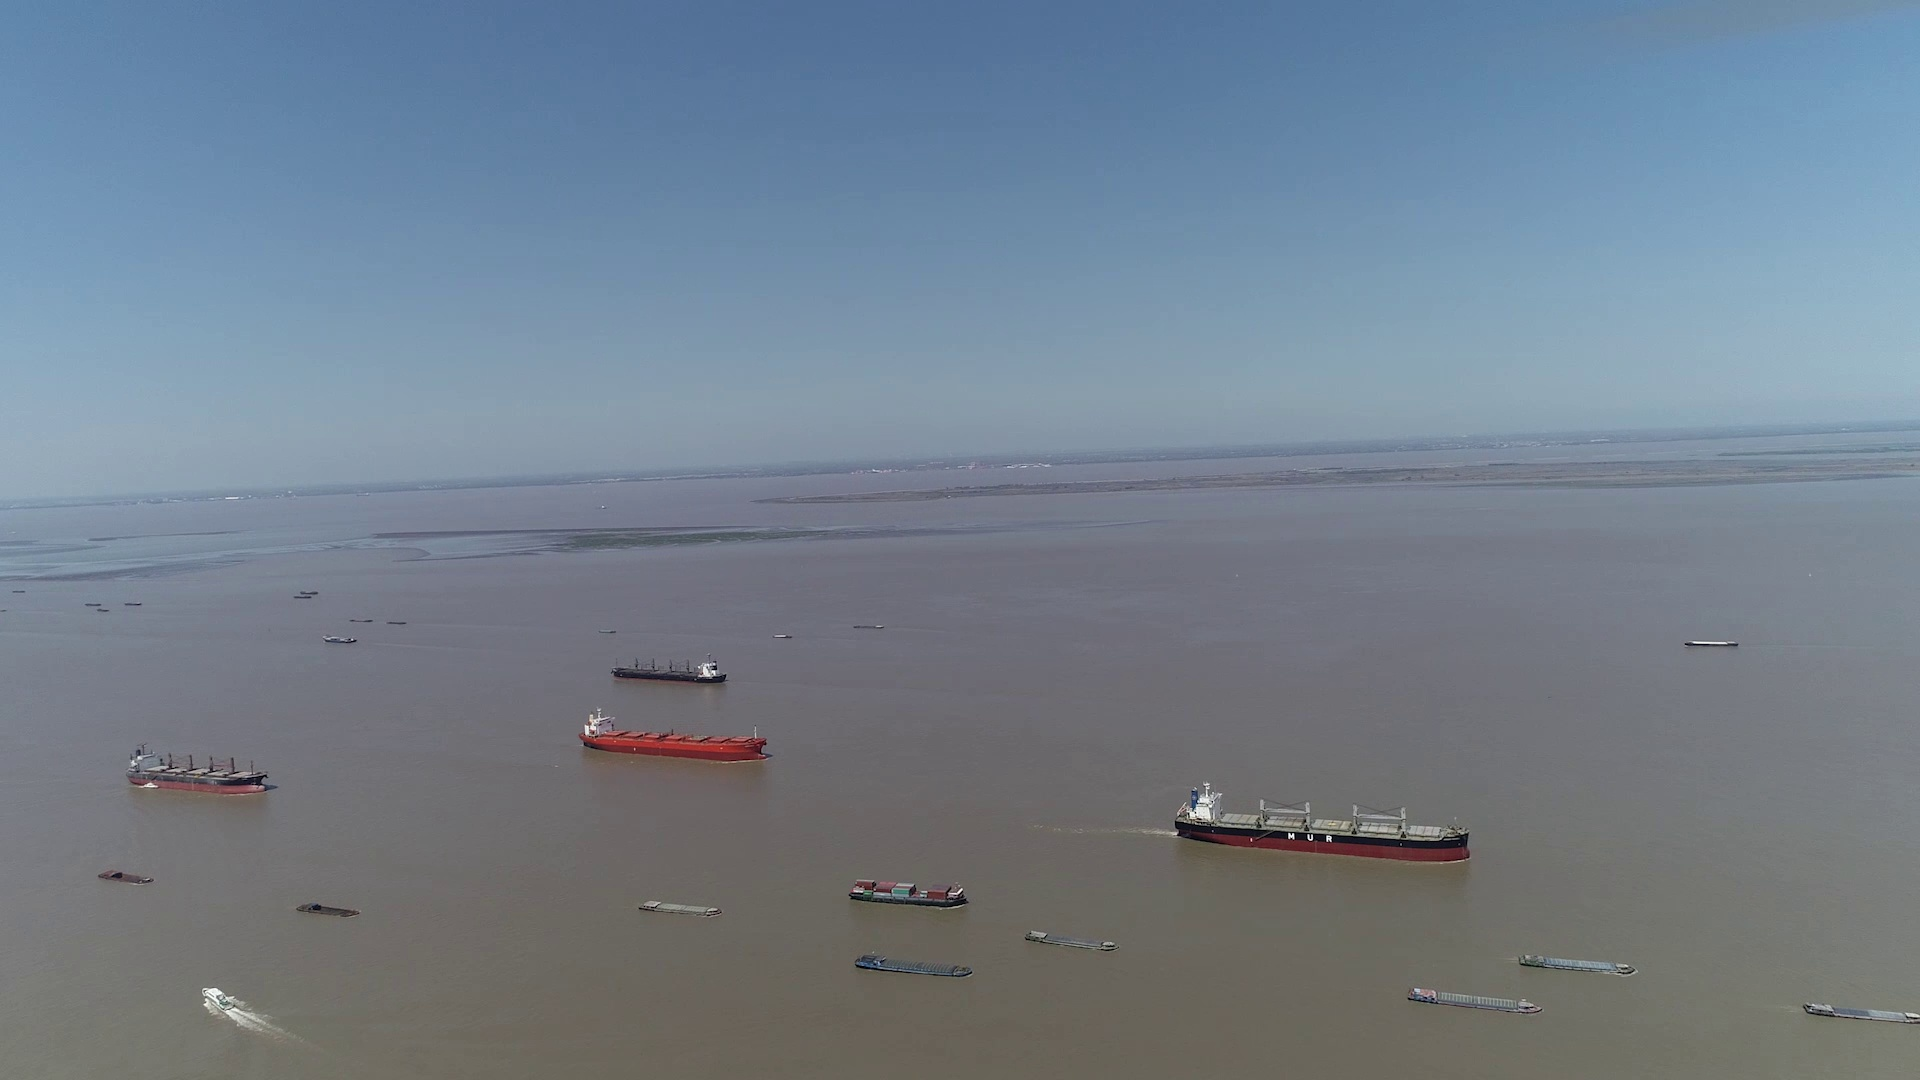ship: (1176, 782, 1473, 862), (575, 709, 767, 762), (131, 745, 270, 796), (1408, 986, 1540, 1015), (849, 878, 967, 909), (612, 653, 727, 683), (856, 953, 975, 977), (1803, 1001, 1919, 1025), (1519, 953, 1634, 975), (1027, 928, 1118, 951), (641, 899, 724, 918), (294, 901, 363, 918), (98, 869, 153, 885), (200, 988, 236, 1011), (1684, 640, 1735, 647), (322, 634, 361, 644), (115, 597, 142, 607)
